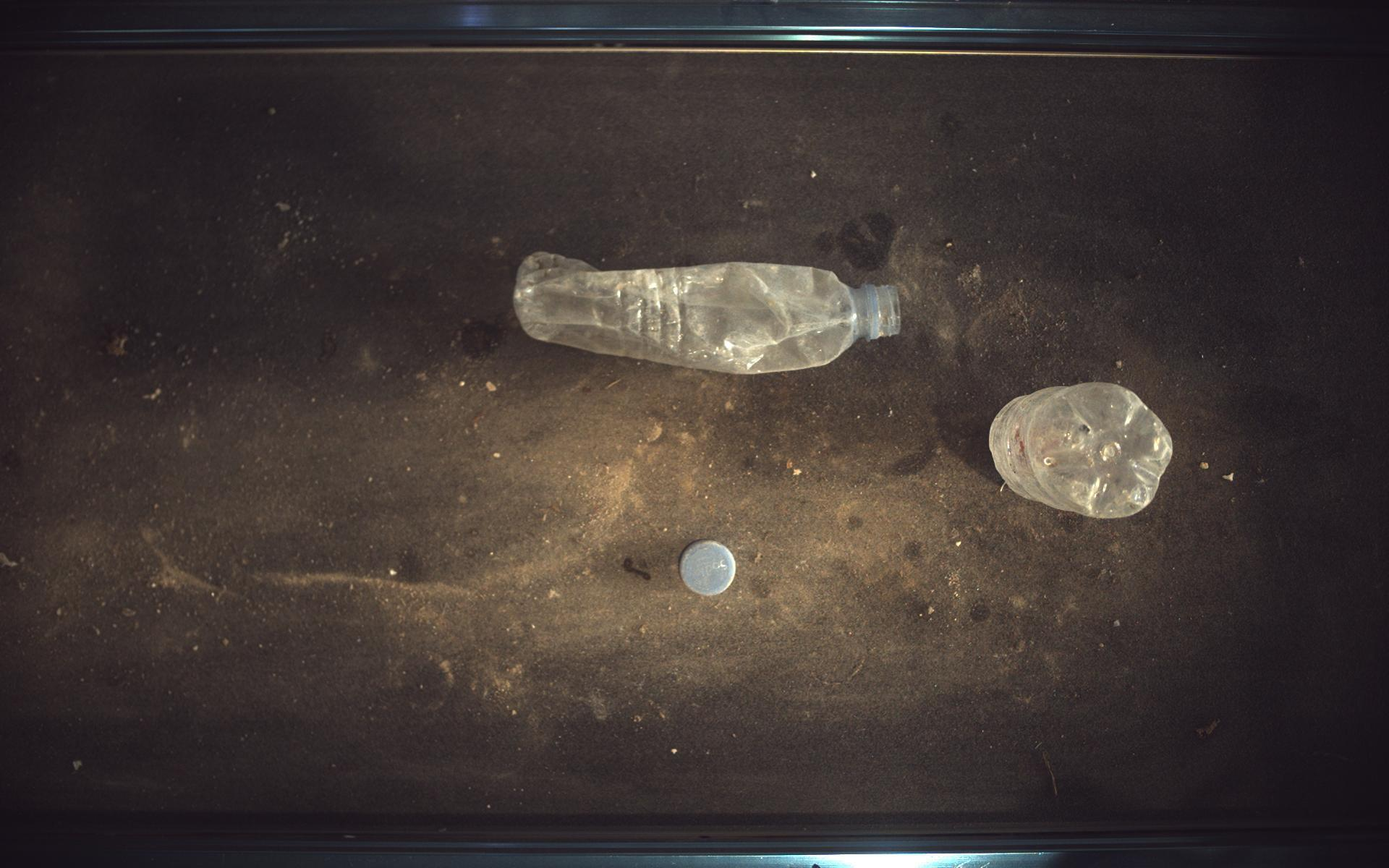general_w: (514, 251, 902, 374), (991, 382, 1175, 519), (681, 542, 737, 596)
